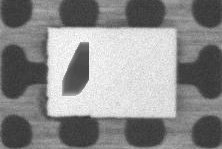DIE_INK: (61, 37, 90, 97)
